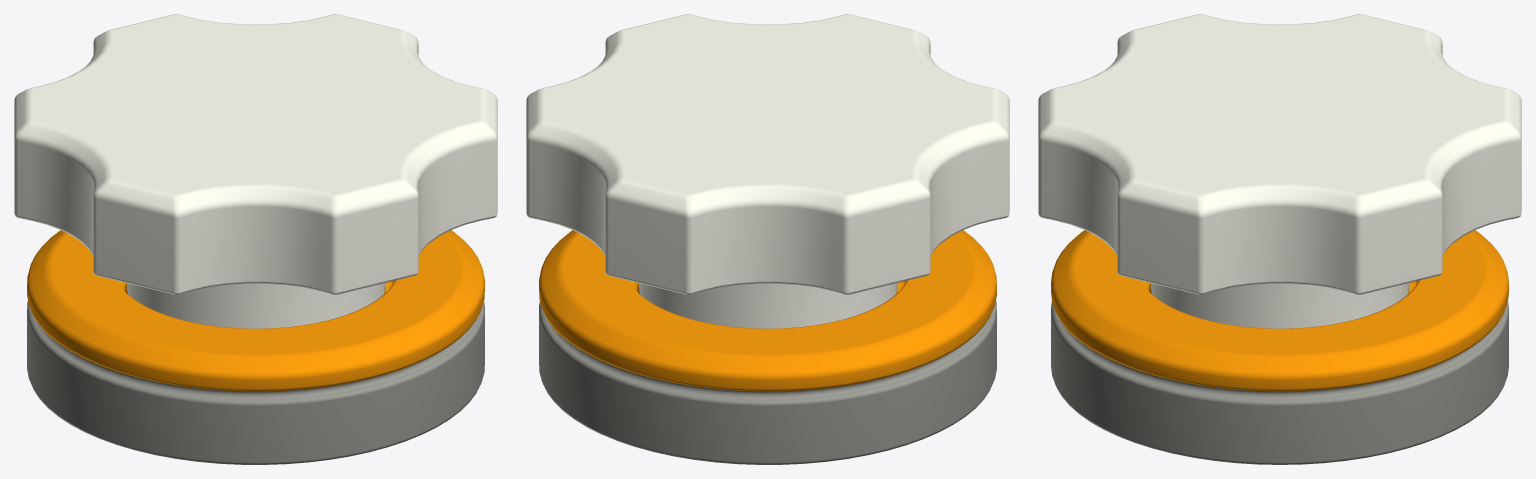
Rendered from reboot.fbx.
The picture shows the model from 3 angles, left to right: view 1: azimuth 30°, elevation 25°; view 2: azimuth 150°, elevation 25°; view 3: azimuth 270°, elevation 25°; orthographic projection.
Visible parts, largest first — view 1: reboot; view 2: reboot; view 3: reboot.
Part boxes in pixels (left/top/right/bottom): reboot: left=14, top=14, right=497, bottom=464; reboot: left=526, top=14, right=1009, bottom=464; reboot: left=1038, top=14, right=1521, bottom=464.
Size of the model in its own units: 1.54 by 1.6 by 0.9652.
